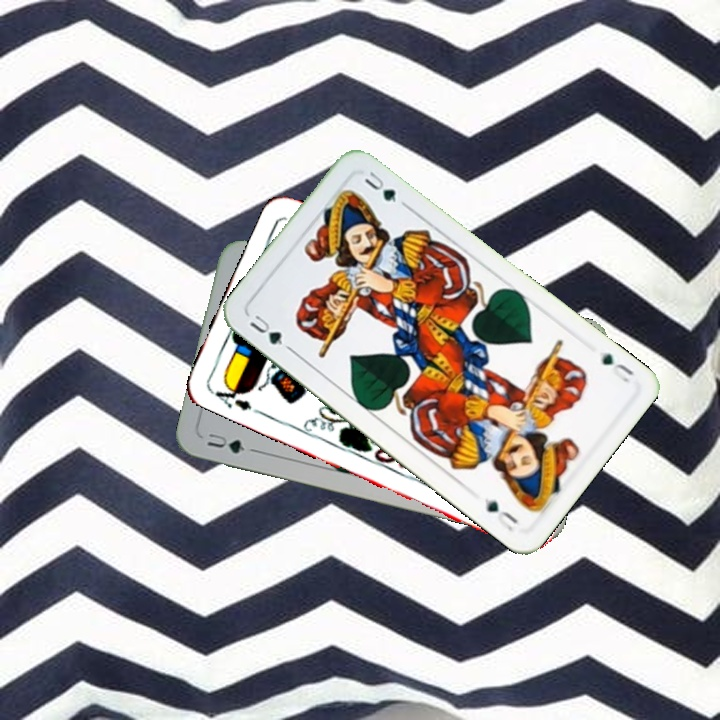EA: (207, 378, 263, 417)
GU: (245, 310, 294, 354), (597, 348, 637, 385), (203, 429, 248, 456)
